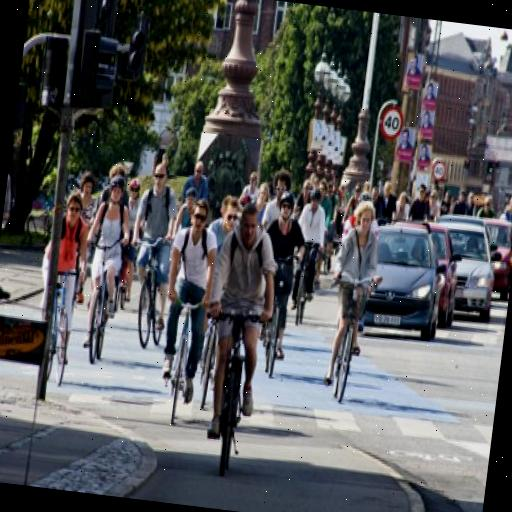no helmet: (186, 181, 292, 470), (149, 177, 235, 402), (310, 186, 396, 398)
